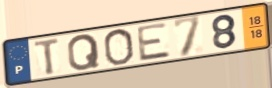7: (172, 14, 203, 59)
8: (210, 13, 239, 51)
E: (135, 21, 173, 63)
O: (102, 27, 136, 67)
Q: (66, 33, 102, 73)
T: (33, 36, 62, 77)
